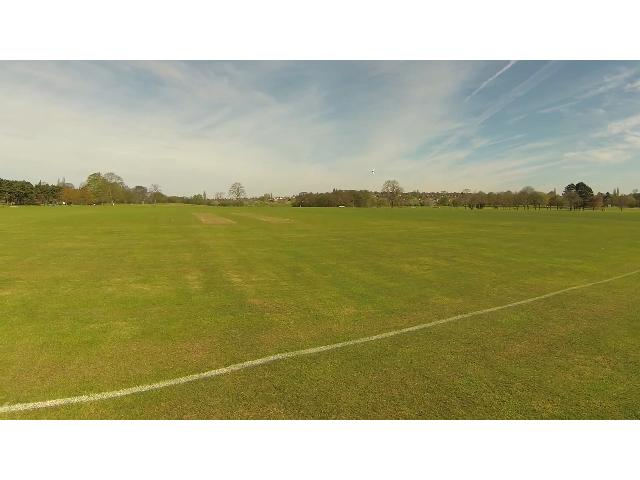Anti-Drone: (367, 166, 379, 178)
